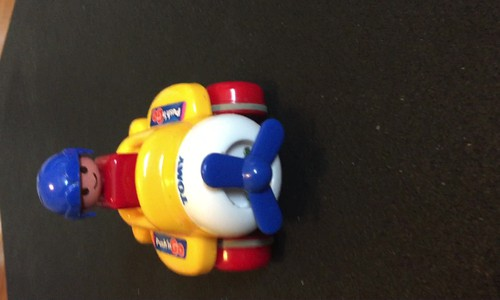toy: (38, 69, 285, 271)
